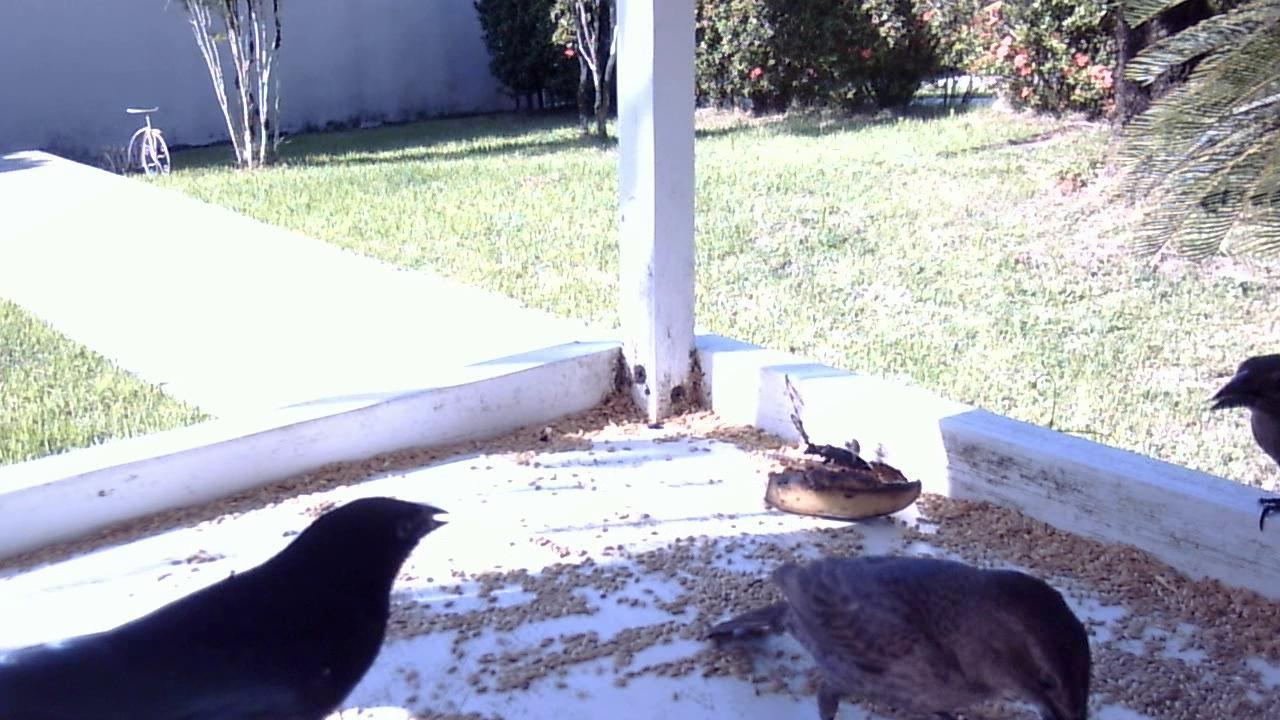chupim: (1, 482, 461, 716), (704, 541, 1095, 720), (1194, 338, 1280, 534)
